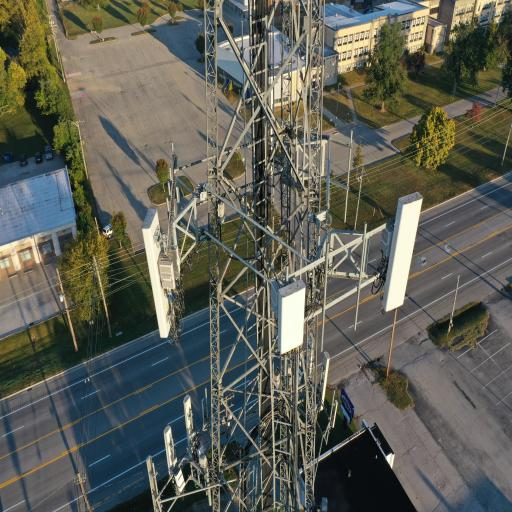supporting_tower: (127, 0, 437, 512)
